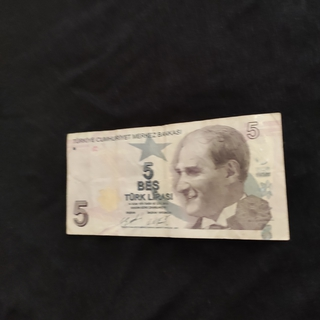5TLFront: (66, 112, 290, 242)
